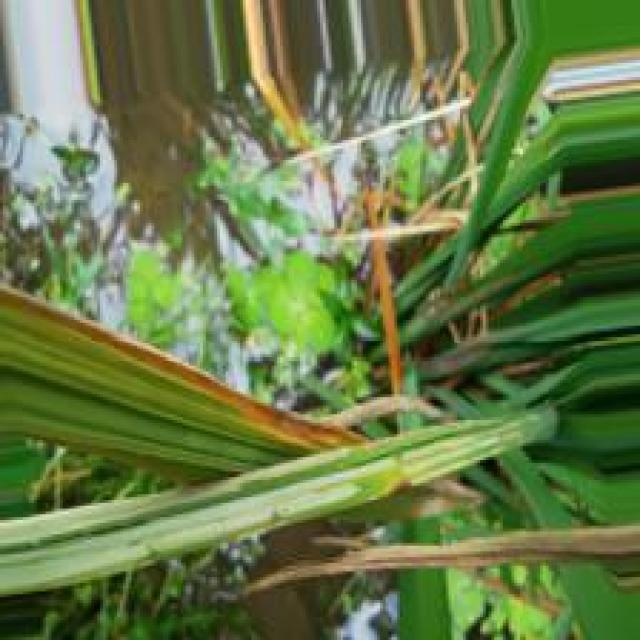Rice_Hispa: (0, 410, 534, 595), (0, 446, 354, 542)
